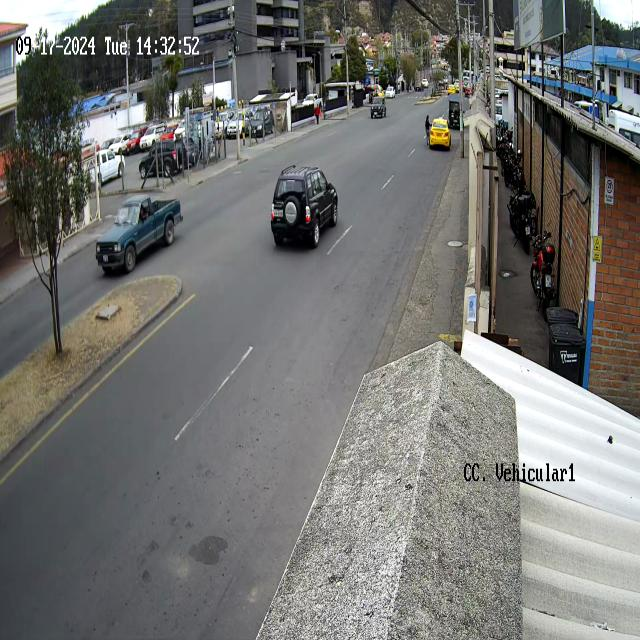CMT: (94, 195, 183, 281)
SED: (430, 117, 452, 150)
SUV: (270, 166, 340, 250)
